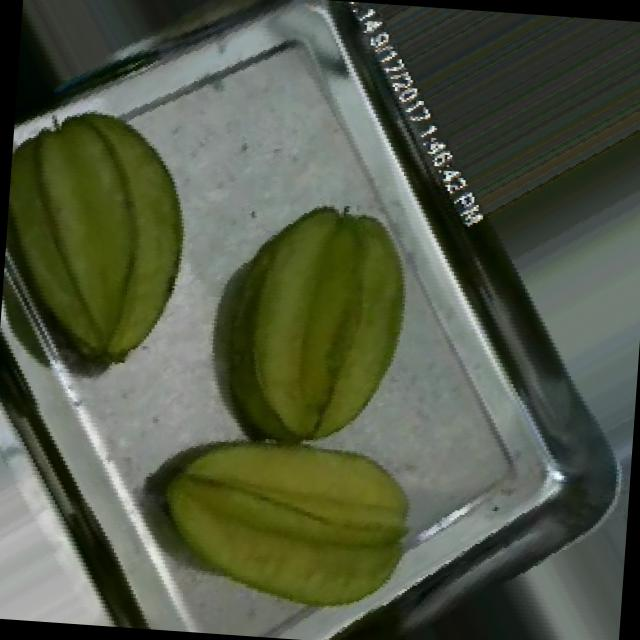fruit: (158, 154, 480, 508), (114, 379, 468, 640), (0, 68, 257, 416)
